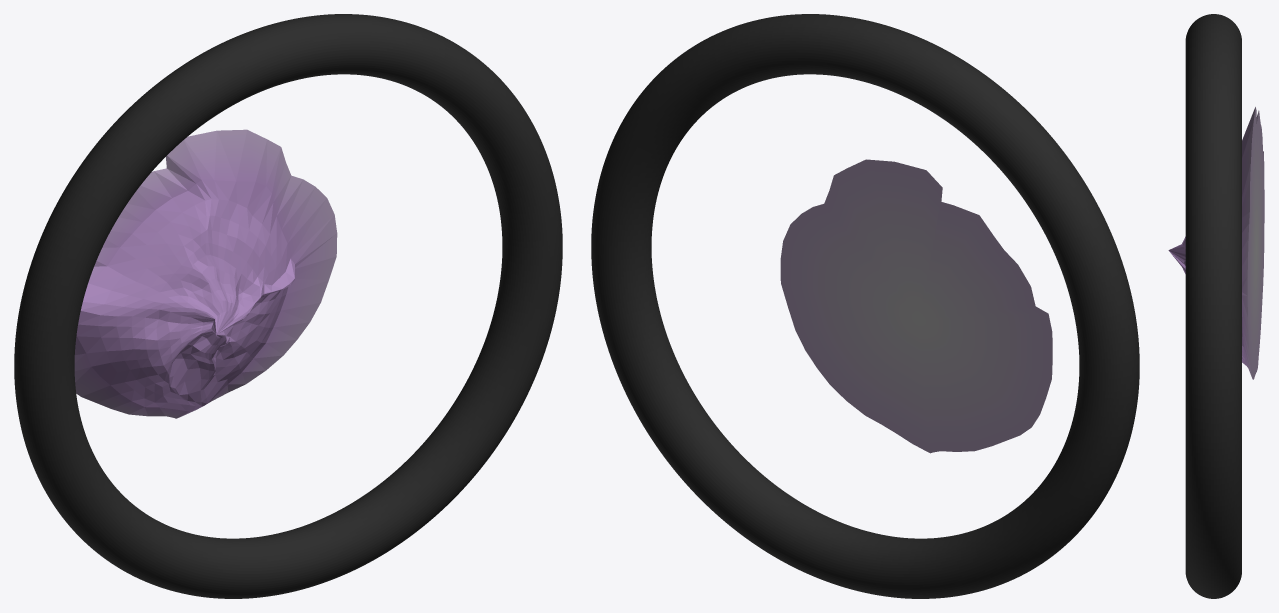
3 views of the same model, side by side, from view 1: azimuth 30°, elevation 25°; view 2: azimuth 150°, elevation 25°; view 3: azimuth 270°, elevation 25° (orthographic). The views are drawn at different scales.
Parts seen in each view (by area): view 1: fixed_CAD_Ring, actual014_body_inferred_base_gray; view 2: fixed_CAD_Ring, actual014_body_inferred_base_gray; view 3: fixed_CAD_Ring, actual014_body_inferred_base_gray.
Part boxes in pixels (x1,y1,x2,y2): fixed_CAD_Ring: (14, 14, 562, 598); actual014_body_inferred_base_gray: (74, 129, 337, 418); fixed_CAD_Ring: (591, 14, 1139, 598); actual014_body_inferred_base_gray: (780, 159, 1052, 453); fixed_CAD_Ring: (1185, 14, 1241, 598); actual014_body_inferred_base_gray: (1168, 107, 1264, 379).
Size of the model in its own units: 0.0124 by 0.0124 by 0.00204.
